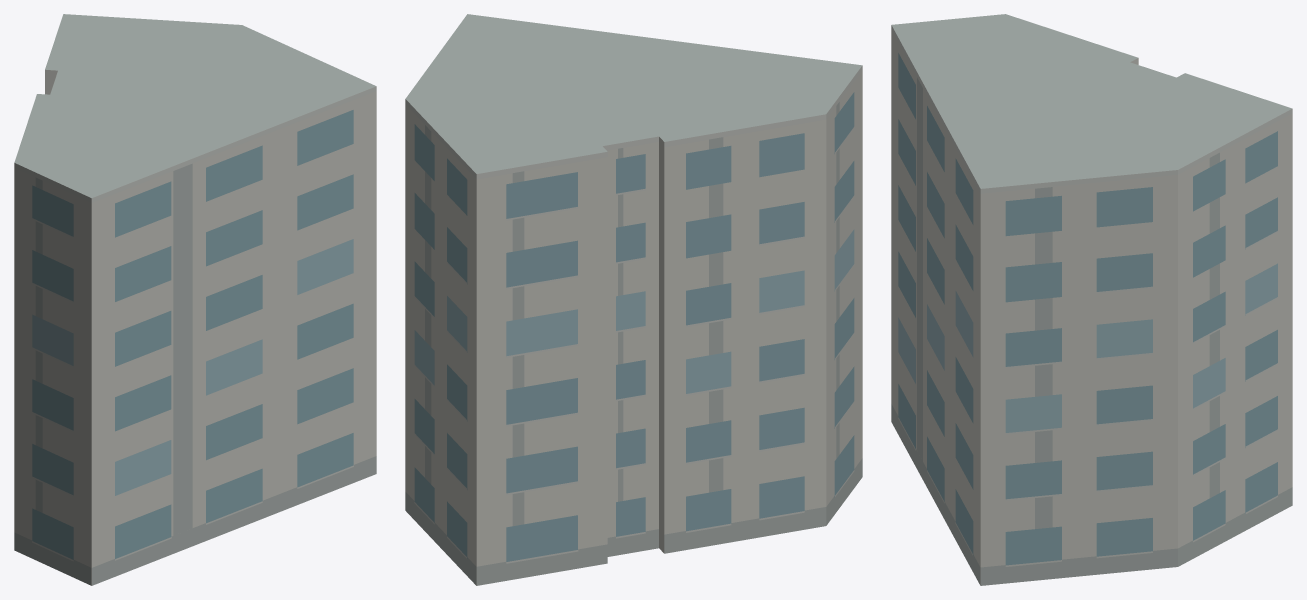
File: survey-upis-32818346.glb
3 renders of one model, left to right at view 1: azimuth 30°, elevation 25°; view 2: azimuth 150°, elevation 25°; view 3: azimuth 270°, elevation 25°, orthographic. The views are drawn at different scales.
Visible parts, largest first — view 1: survey-upis-32818346.tmp; view 2: survey-upis-32818346.tmp; view 3: survey-upis-32818346.tmp.
Boxes of the visible parts, bbox=[...] form: survey-upis-32818346.tmp: bbox=[14, 14, 376, 585]; survey-upis-32818346.tmp: bbox=[405, 14, 862, 585]; survey-upis-32818346.tmp: bbox=[891, 14, 1292, 585].
Bounding box in the file's own units: 18.3 × 19.35 × 17.73.
